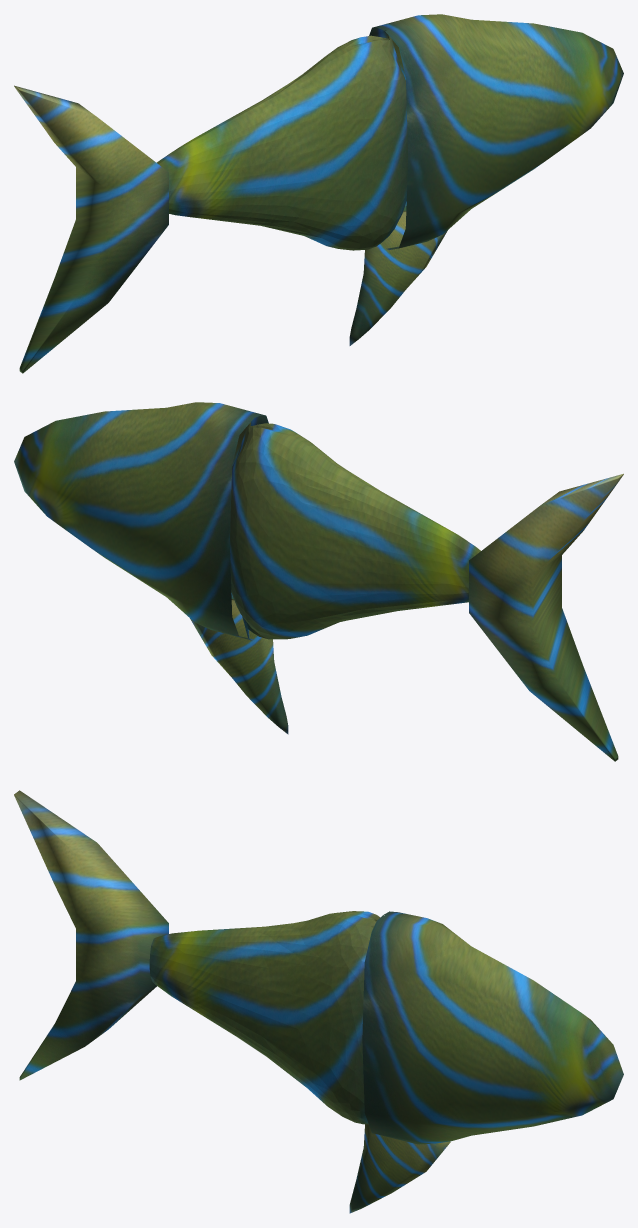
File: Fish3Full.dae
3 views of the same model, one above another, from view 1: azimuth 30°, elevation 25°; view 2: azimuth 150°, elevation 25°; view 3: azimuth 330°, elevation 25° (orthographic).
Parts seen in each view (by area): view 1: Cube_001, Cube, Cube_003, Cube_002; view 2: Cube_001, Cube, Cube_003, Cube_002; view 3: Cube, Cube_001, Cube_003, Cube_002.
Boxes of the visible parts, x1,y1,x2,y2 form: Cube_001: (156, 35, 407, 250); Cube: (369, 14, 623, 249); Cube_003: (14, 85, 168, 373); Cube_002: (349, 211, 447, 345); Cube_001: (230, 422, 480, 639); Cube: (14, 402, 268, 640); Cube_003: (469, 473, 623, 761); Cube_002: (190, 599, 288, 734); Cube: (362, 911, 623, 1144); Cube_001: (149, 911, 380, 1124); Cube_003: (14, 790, 168, 1080); Cube_002: (349, 1124, 450, 1213).
Size of the model in its own units: 34.29 by 4.48 by 18.36.
Materials: 3 (3 with a texture image).
